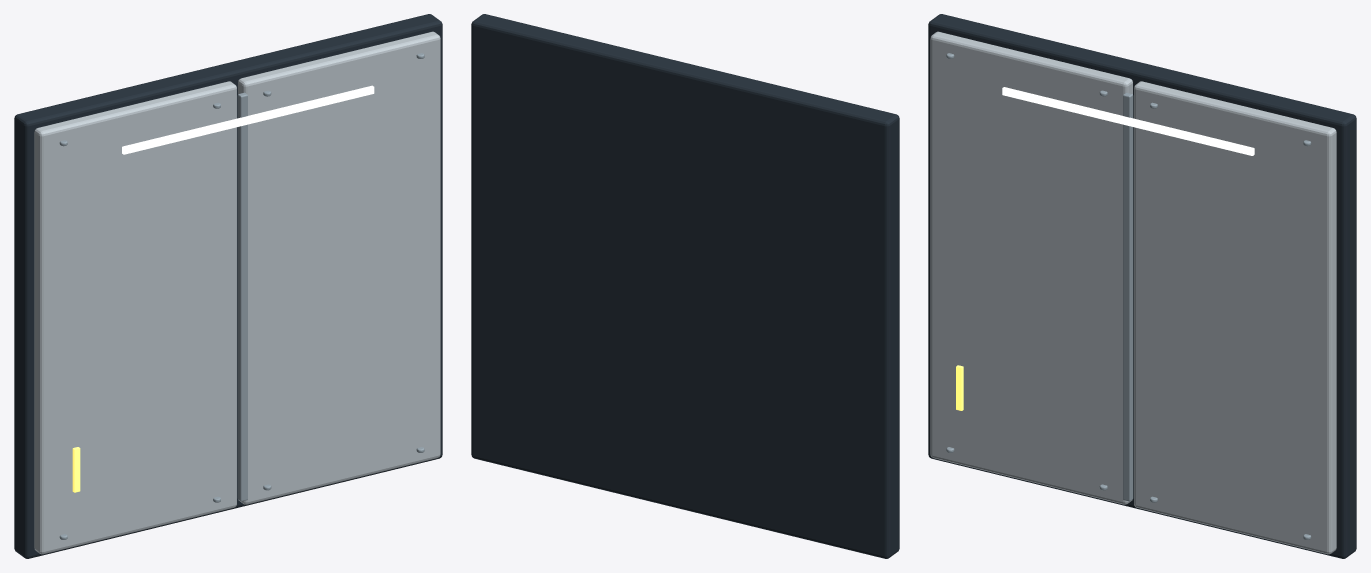
File: clinical_wall_module.glb
3 views of the same model, side by side, from view 1: azimuth 30°, elevation 25°; view 2: azimuth 150°, elevation 25°; view 3: azimuth 330°, elevation 25° (orthographic).
Visible parts, largest first — view 1: clinical_wall_module; view 2: clinical_wall_module; view 3: clinical_wall_module.
Part boxes in pixels (<box>): clinical_wall_module: <box>14,14,442,558</box>; clinical_wall_module: <box>471,14,899,558</box>; clinical_wall_module: <box>928,14,1356,558</box>.
Bounding box in the file's own units: 3 × 3 × 0.3025.
